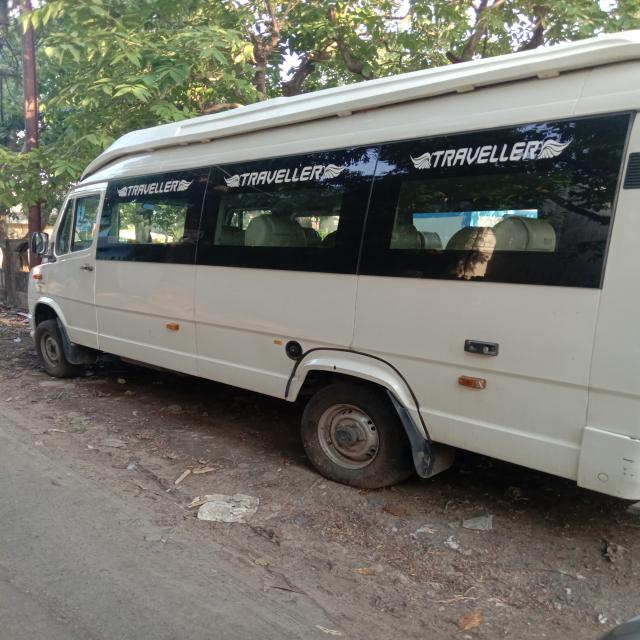Bus: (27, 78, 640, 500)
